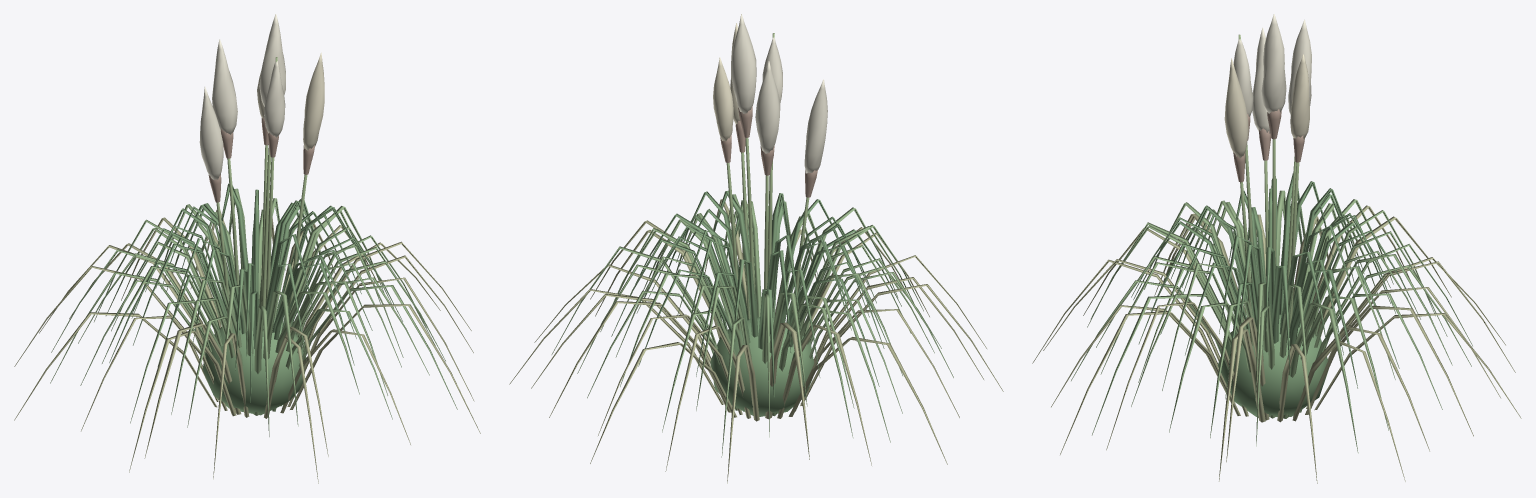
Rendered from pampas_cortadera_0.glb.
3 renders of one model, left to right at view 1: azimuth 30°, elevation 25°; view 2: azimuth 150°, elevation 25°; view 3: azimuth 270°, elevation 25°, orthographic. The views are drawn at different scales.
Parts seen in each view (by area): view 1: CortBladeDeep, CortBladeMid, CortBladeDry, CortPlumeSilk, CortStalks, CortPlumeGold, CortSheaths; view 2: CortBladeDeep, CortBladeMid, CortBladeDry, CortPlumeSilk, CortStalks, CortPlumeGold, CortSheaths; view 3: CortBladeDeep, CortBladeMid, CortBladeDry, CortPlumeSilk, CortPlumeGold, CortStalks, CortSheaths.
Boxes of the visible parts, x1,y1,x2,y2 form: CortBladeDeep: (109,183,402,415); CortBladeMid: (50,188,457,436); CortBladeDry: (14,207,480,483); CortPlumeSilk: (199,14,285,180); CortStalks: (216,57,307,329); CortPlumeGold: (257,52,324,150); CortSheaths: (208,117,314,202); CortBladeDeep: (611,190,901,416); CortBladeMid: (551,194,953,457); CortBladeDry: (509,199,1003,483); CortPlumeSilk: (731,14,827,173); CortStalks: (726,33,809,330); CortPlumeGold: (713,23,740,141); CortSheaths: (720,106,817,197); CortBladeDeep: (1131,173,1420,416); CortBladeMid: (1071,190,1472,453); CortBladeDry: (1032,205,1521,483); CortPlumeSilk: (1233,14,1311,133); CortPlumeGold: (1224,54,1309,158); CortStalks: (1238,34,1299,345); CortSheaths: (1233,109,1304,182).
Bounding box in the file's own units: 2.21 × 1.94 × 2.13.
